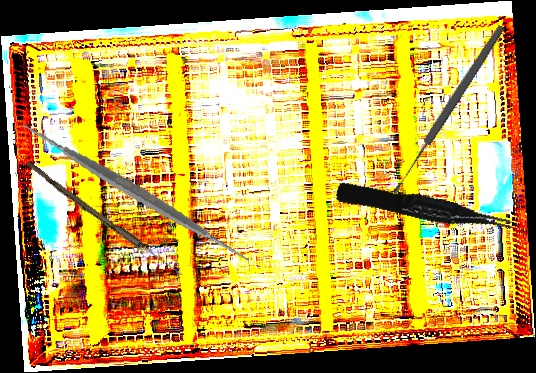Spatula Surgical: (20, 76, 252, 310)
Surgical Spoon: (389, 23, 507, 196), (23, 161, 186, 278)
Tissue Forceps: (334, 174, 515, 244)
